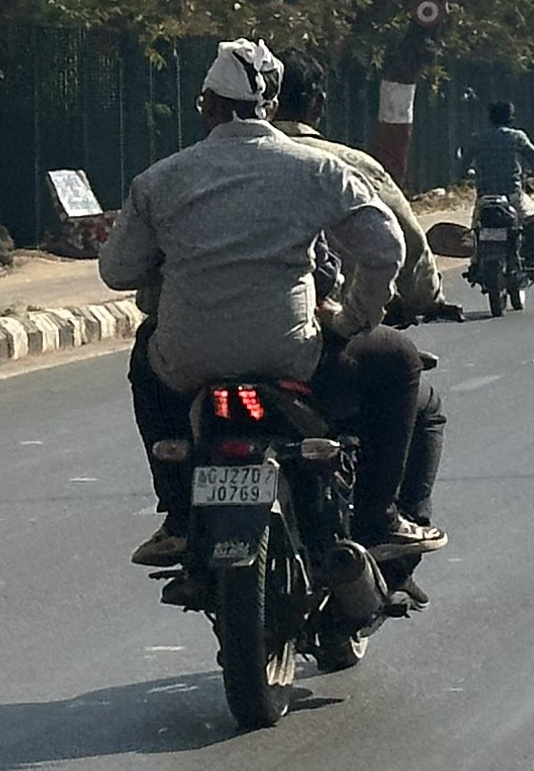BikeWithRider: (89, 28, 485, 711), (462, 98, 534, 316)
NoHelmet: (189, 33, 285, 143), (252, 43, 330, 140), (483, 99, 516, 133)
